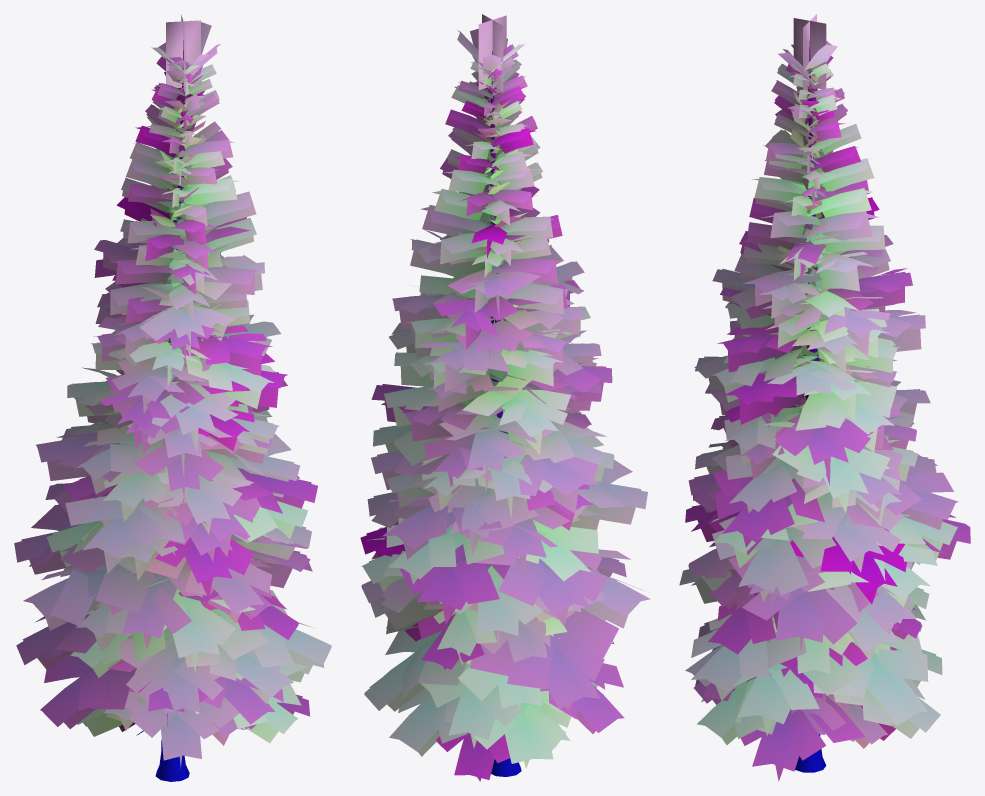
The model's file is pine_a_lod0.glb.
The picture shows the model from 3 angles, left to right: view 1: azimuth 30°, elevation 25°; view 2: azimuth 150°, elevation 25°; view 3: azimuth 270°, elevation 25°; orthographic projection.
Parts seen in each view (by area): view 1: pine_a_lod0; view 2: pine_a_lod0; view 3: pine_a_lod0.
Part boxes in pixels (x1=…): pine_a_lod0: x1=14, y1=15, x2=331, y2=781; pine_a_lod0: x1=360, y1=14, x2=650, y2=781; pine_a_lod0: x1=679, y1=14, x2=970, y2=781.
Size of the model in its own units: 7.41 by 19.8 by 6.97.
